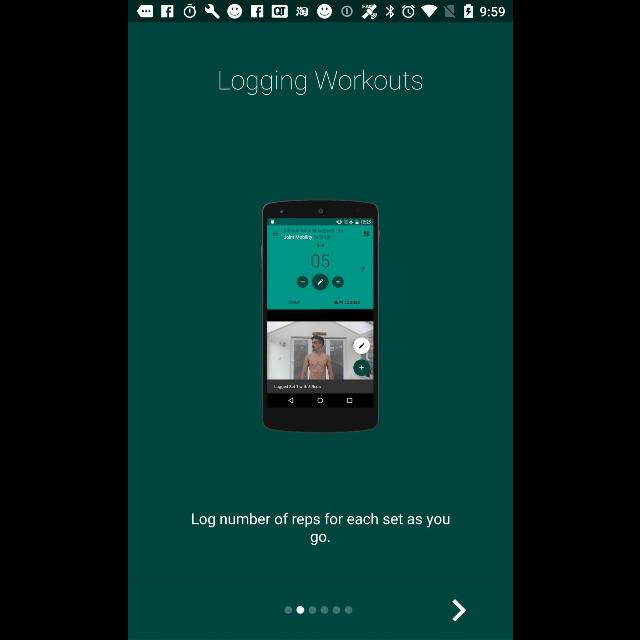icon: (450, 598, 466, 622)
image: (260, 200, 378, 432)
pageindicator: (284, 606, 352, 614)
text: (191, 512, 449, 546), (218, 70, 422, 96)
uppertaskbar: (128, 1, 512, 23)
